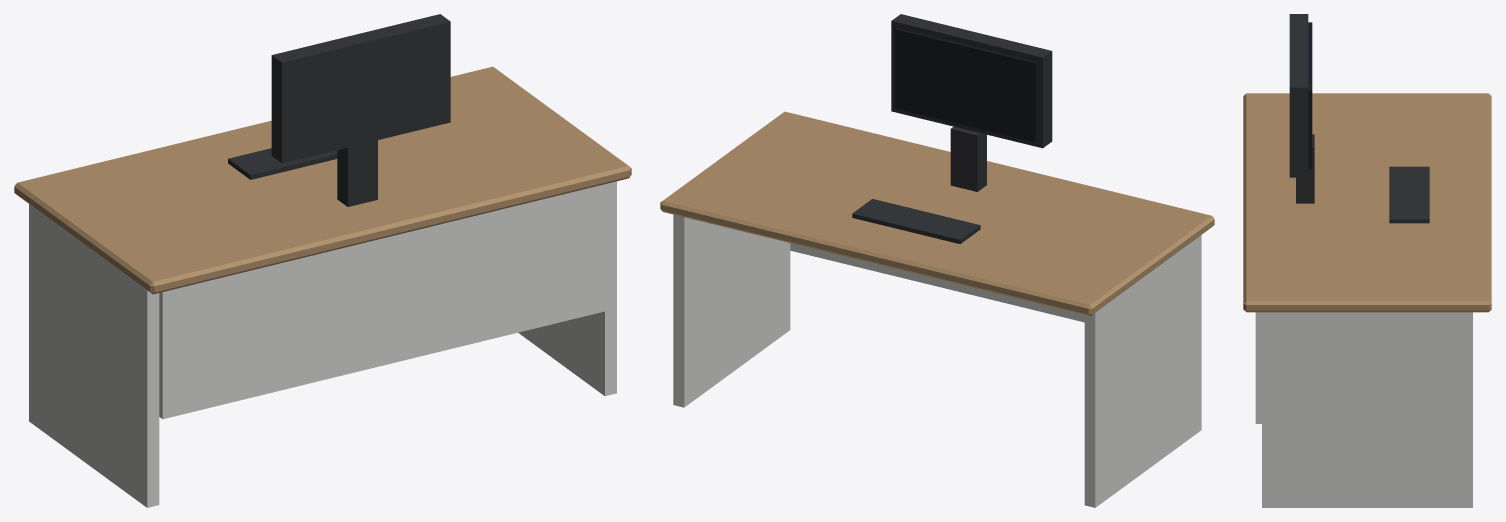
File: desk.glb
The picture shows the model from 3 angles, left to right: view 1: azimuth 30°, elevation 25°; view 2: azimuth 150°, elevation 25°; view 3: azimuth 270°, elevation 25°; orthographic projection. The views are drawn at different scales.
Parts seen in each view (by area): view 1: Body_LOD0; view 2: Body_LOD0; view 3: Body_LOD0.
Boxes of the visible parts, box(x1,y1,x2,y2) form: Body_LOD0: box(14, 14, 631, 507); Body_LOD0: box(660, 14, 1214, 507); Body_LOD0: box(1243, 14, 1491, 507).
Bounding box in the file's own units: 1.6 × 1.26 × 0.8.
